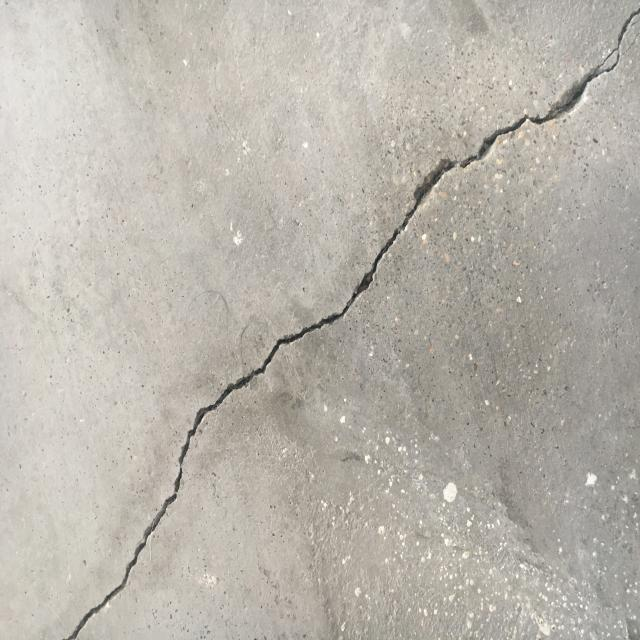Rachadura: (59, 0, 640, 640)
